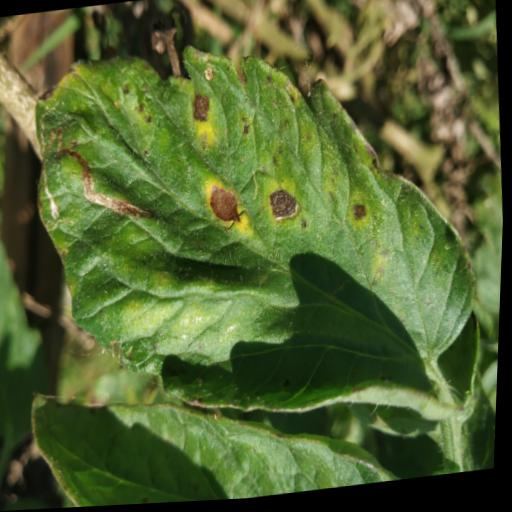Early Blight: (19, 15, 503, 494)
